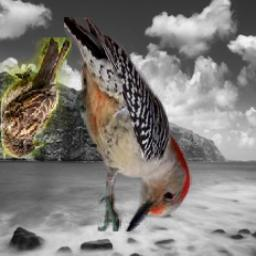Sparrow: (1, 38, 72, 159)
Woodpecker: (64, 18, 192, 233)
